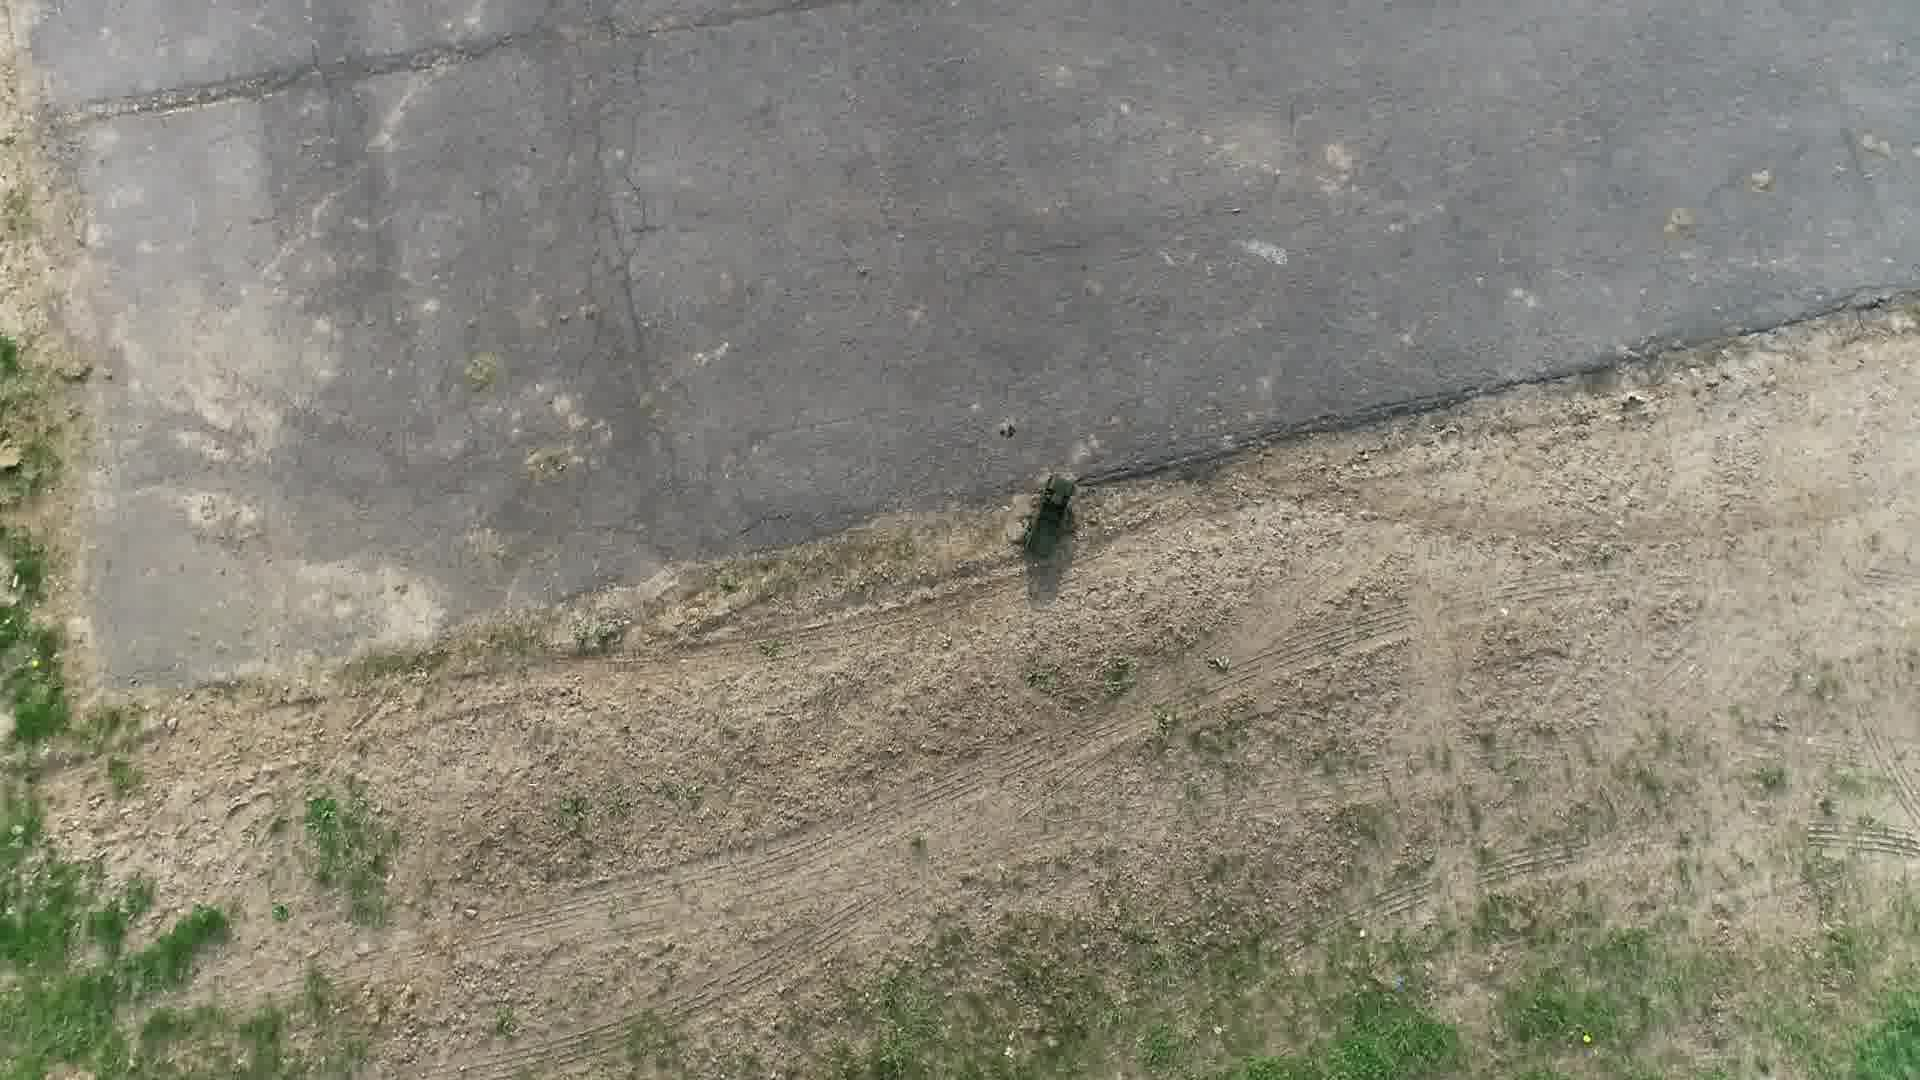transporter9: (1015, 469, 1081, 564)
